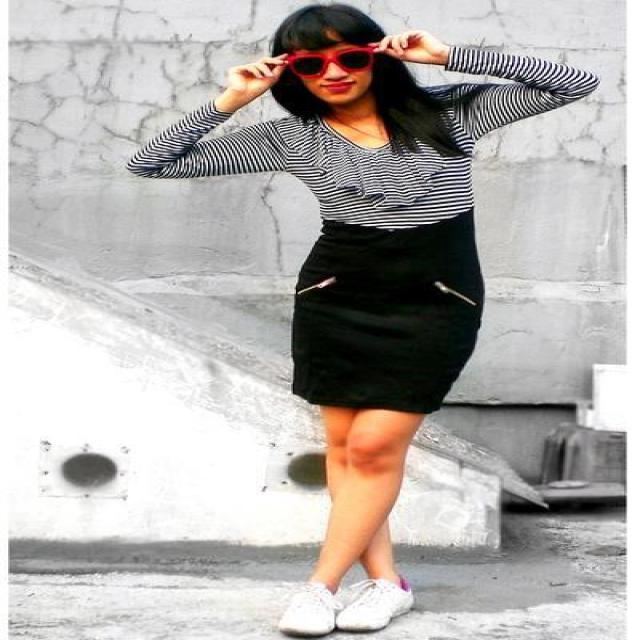shirt: (110, 47, 596, 226)
shoe: (280, 579, 411, 639)
skirt: (291, 205, 483, 414)
sunglass: (264, 42, 392, 88)
